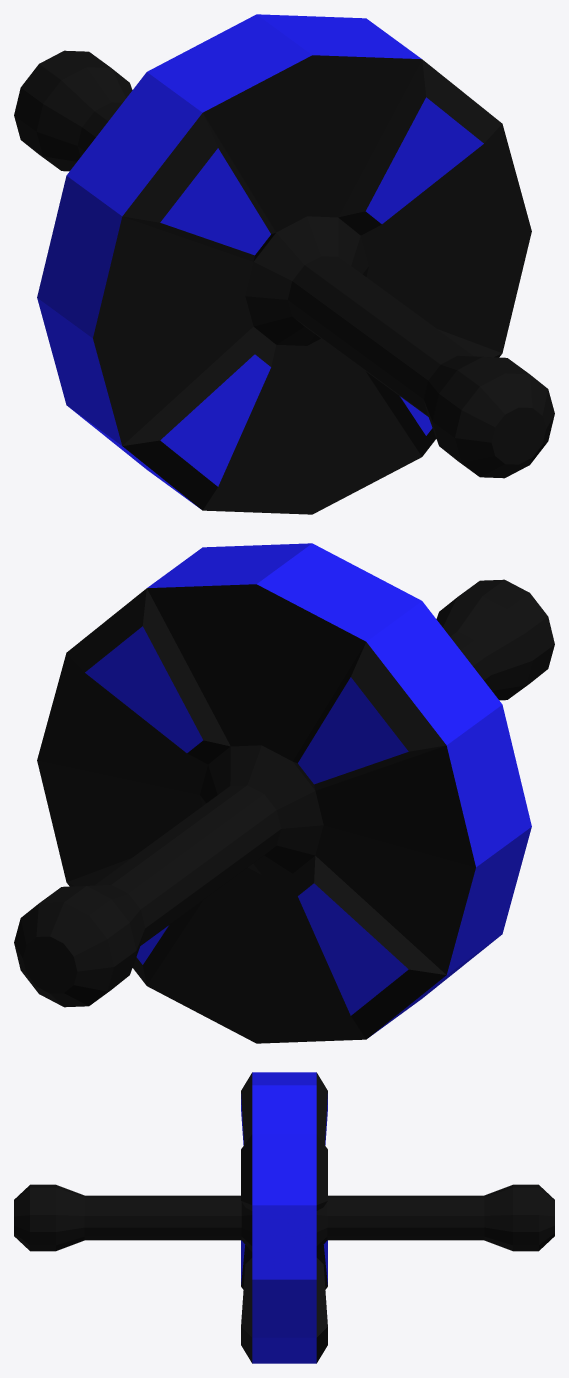
File: AbWheel.001.fbx
The picture shows the model from 3 angles, top to bottom: view 1: azimuth 30°, elevation 25°; view 2: azimuth 150°, elevation 25°; view 3: azimuth 270°, elevation 25°; orthographic projection. The views are drawn at different scales.
Parts seen in each view (by area): view 1: AbWheel.001; view 2: AbWheel.001; view 3: AbWheel.001.
Part boxes in pixels (<box>): AbWheel.001: <box>14,14,554,514</box>; AbWheel.001: <box>14,543,554,1043</box>; AbWheel.001: <box>14,1072,554,1363</box>.
Size of the model in its own units: 24.22 by 24.22 by 44.79.
